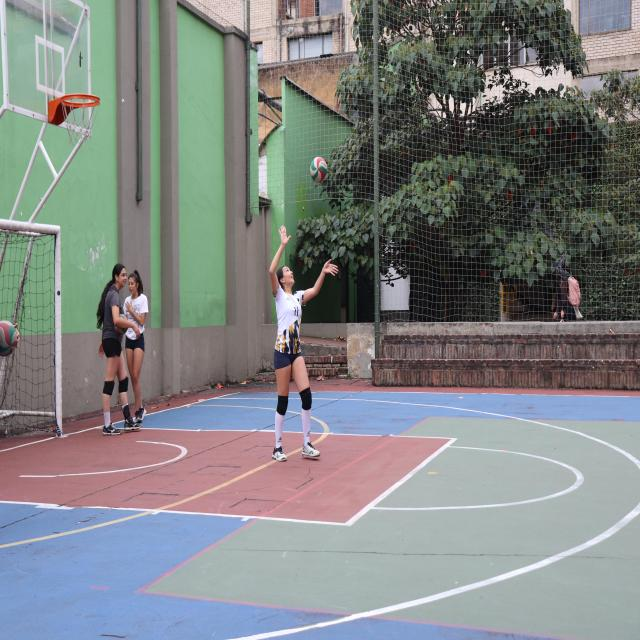volleyball: (0, 320, 17, 357), (310, 156, 328, 184)
